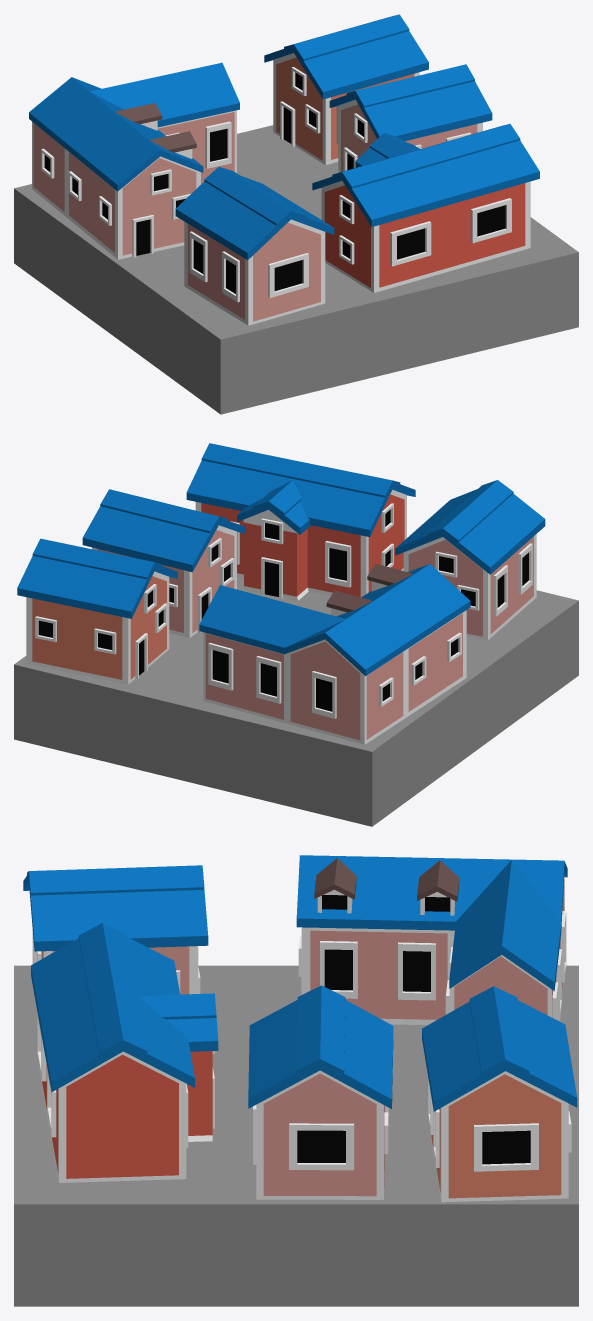
The picture shows the model from 3 angles, top to bottom: view 1: azimuth 30°, elevation 25°; view 2: azimuth 150°, elevation 25°; view 3: azimuth 270°, elevation 25°; orthographic projection. The views are drawn at different scales.
Parts seen in each view (by area): view 1: Mesh_1x1_v2; view 2: Mesh_1x1_v2; view 3: Mesh_1x1_v2.
Part boxes in pixels (x1,y1,x2,y2): Mesh_1x1_v2: [14, 14, 578, 414]; Mesh_1x1_v2: [14, 443, 578, 826]; Mesh_1x1_v2: [14, 855, 578, 1306].
Size of the model in its own units: 101 by 48.36 by 100.
